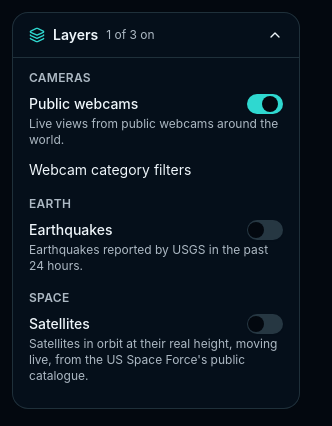
Test: LayerPanel › switches a layer off, hides its controls, and remembers the choice
Check: the text "Webcam category filters" is shown, box [29,161,191,178]
Click the switch named "Public webcams" below "Cameras" at (265, 104), box [247,94,283,114]
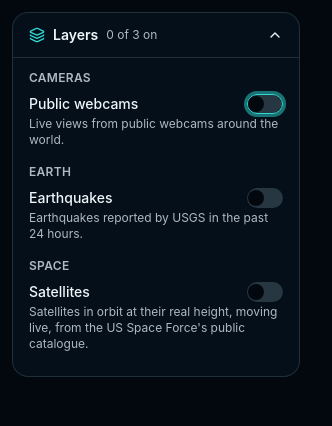
Check: the switch named "Public webcams" below "Cameras" is not checked, box [247,94,283,114]
Check: the text "Webcam category filters" is gone
Check: the button "Layers 0 of 3 on" is shown, box [13,13,299,57]
